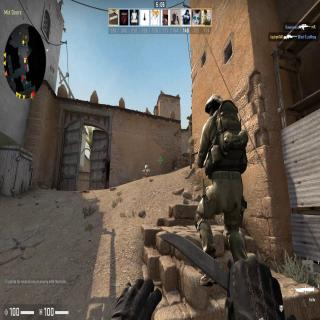CT-Body: (199, 91, 248, 232)
CT-Head: (203, 94, 220, 116)
